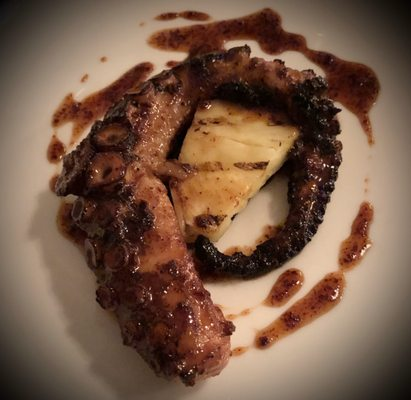sandwich: (48, 12, 381, 386)
